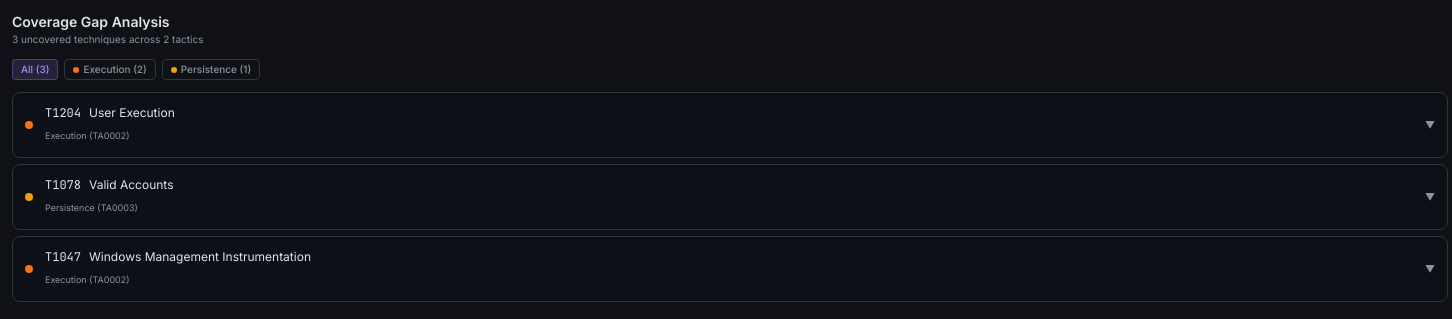
Test case: CoverageGapAnalysis › returns to all gaps when "All" button is clicked
// Filter to Execution
Click the button "Execution (2)" at point(110, 70), box [64, 59, 156, 80]
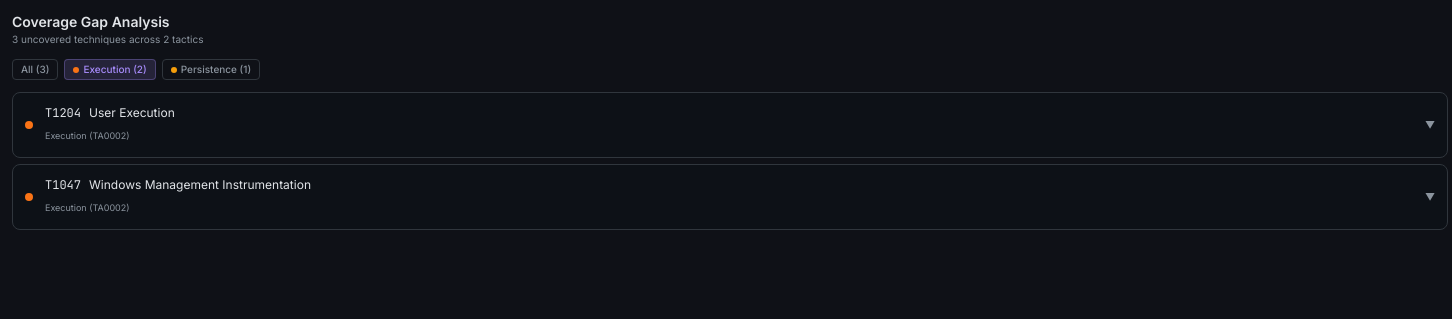
expect the button "T1078" is gone: met
// Click All
Click the button "All (3)" at point(35, 70), box [12, 59, 58, 80]
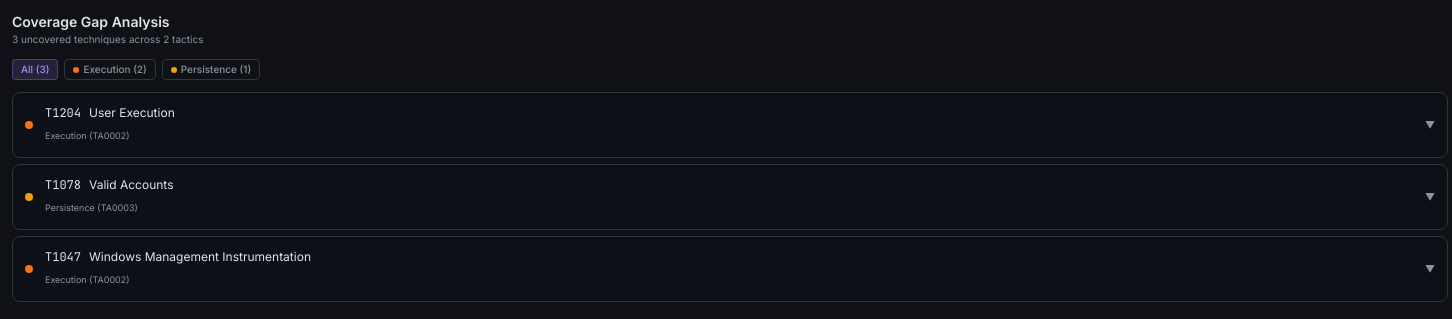
expect the text "T1078" is shown: met, box [45, 177, 81, 193]
